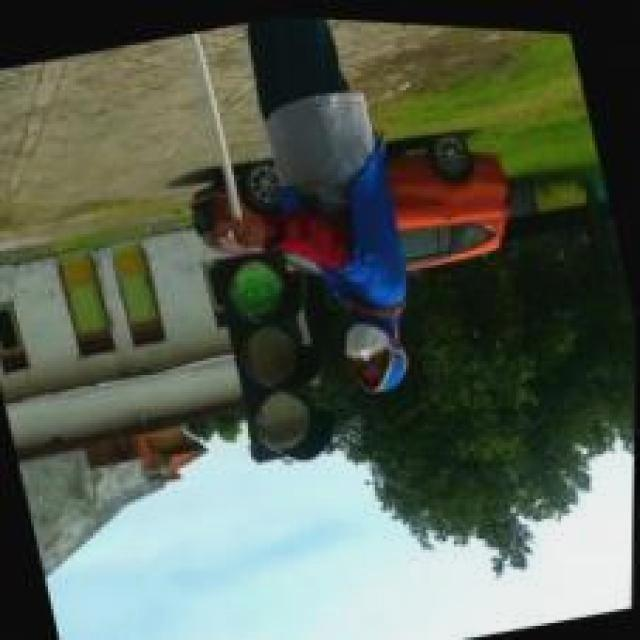Green: (206, 237, 347, 468)
